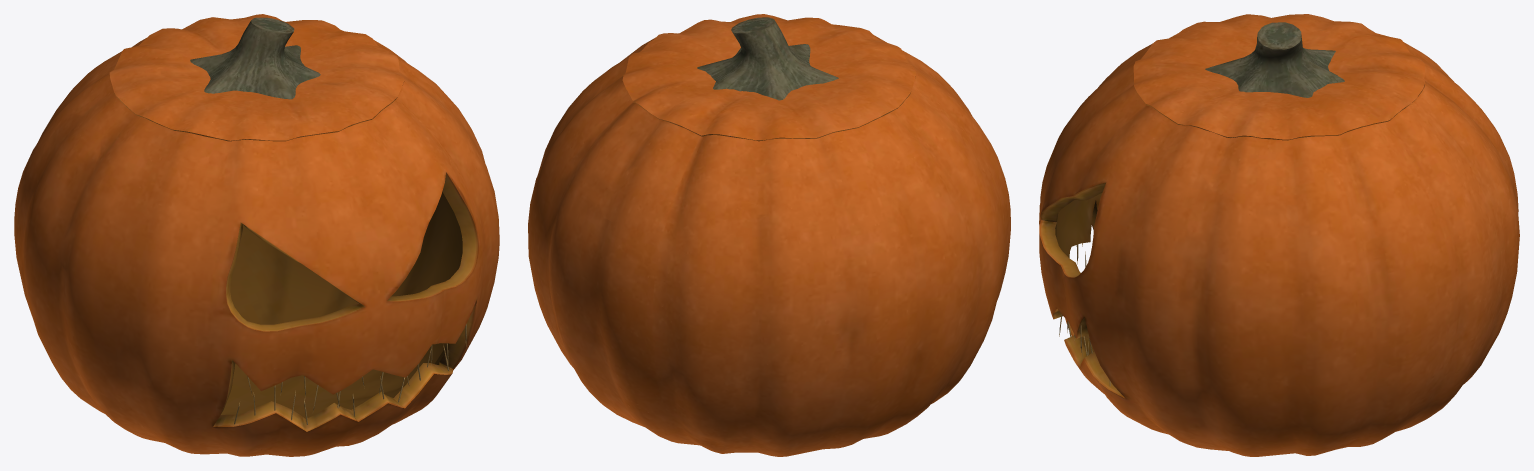
File: pumpkin.glb
The picture shows the model from 3 angles, left to right: view 1: azimuth 30°, elevation 25°; view 2: azimuth 150°, elevation 25°; view 3: azimuth 270°, elevation 25°; orthographic projection.
Parts seen in each view (by area): view 1: Sphere.001_lp_Pumpkin_0; view 2: Sphere.001_lp_Pumpkin_0; view 3: Sphere.001_lp_Pumpkin_0.
Part boxes in pixels (x1,y1,x2,y2): Sphere.001_lp_Pumpkin_0: [14, 14, 499, 456]; Sphere.001_lp_Pumpkin_0: [528, 14, 1010, 456]; Sphere.001_lp_Pumpkin_0: [1039, 14, 1519, 456].
Bounding box in the file's own units: 0.3814 × 0.3438 × 0.3817.
Materials: 1 (1 with a texture image).
